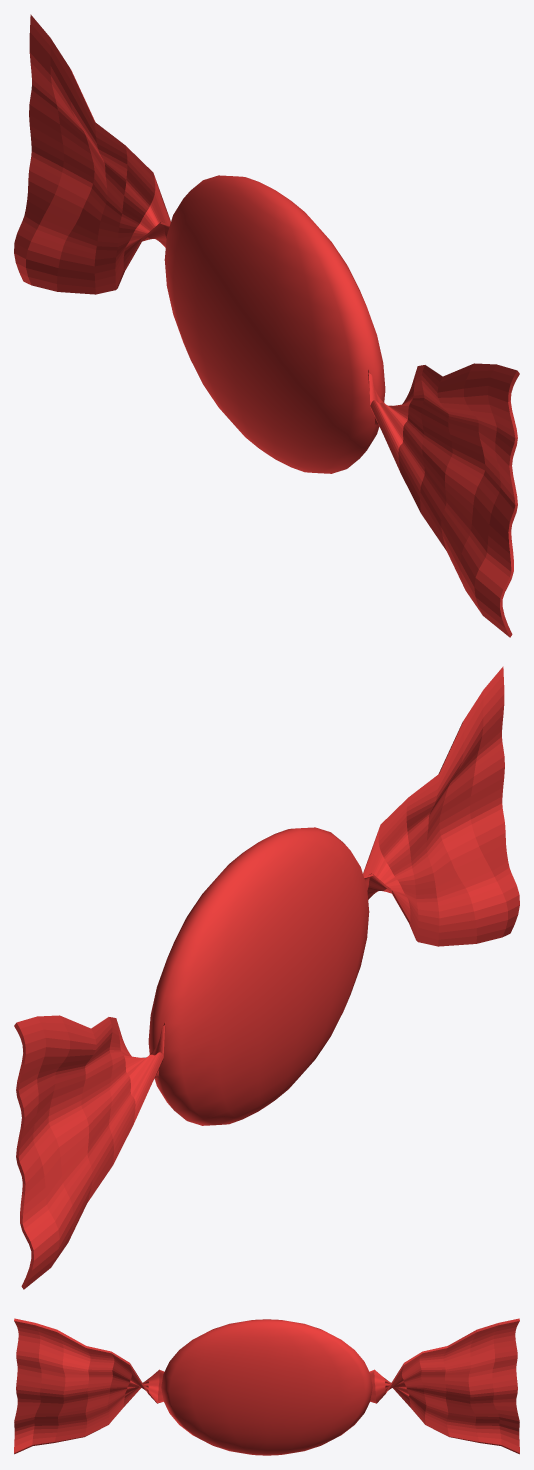
File: bonbon1.glb
The picture shows the model from 3 angles, top to bottom: view 1: azimuth 30°, elevation 25°; view 2: azimuth 150°, elevation 25°; view 3: azimuth 270°, elevation 25°; orthographic projection. The views are drawn at different scales.
Parts seen in each view (by area): view 1: Plan, Sphère; view 2: Plan, Sphère; view 3: Plan, Sphère.
Boxes of the visible parts, x1,y1,x2,y2 form: Plan: [14, 14, 519, 637]; Sphère: [164, 175, 385, 473]; Plan: [14, 666, 519, 1289]; Sphère: [148, 827, 369, 1125]; Plan: [14, 1318, 519, 1454]; Sphère: [161, 1319, 372, 1455].
Bounding box in the file's own units: 0.3745 × 1.12 × 3.72.
